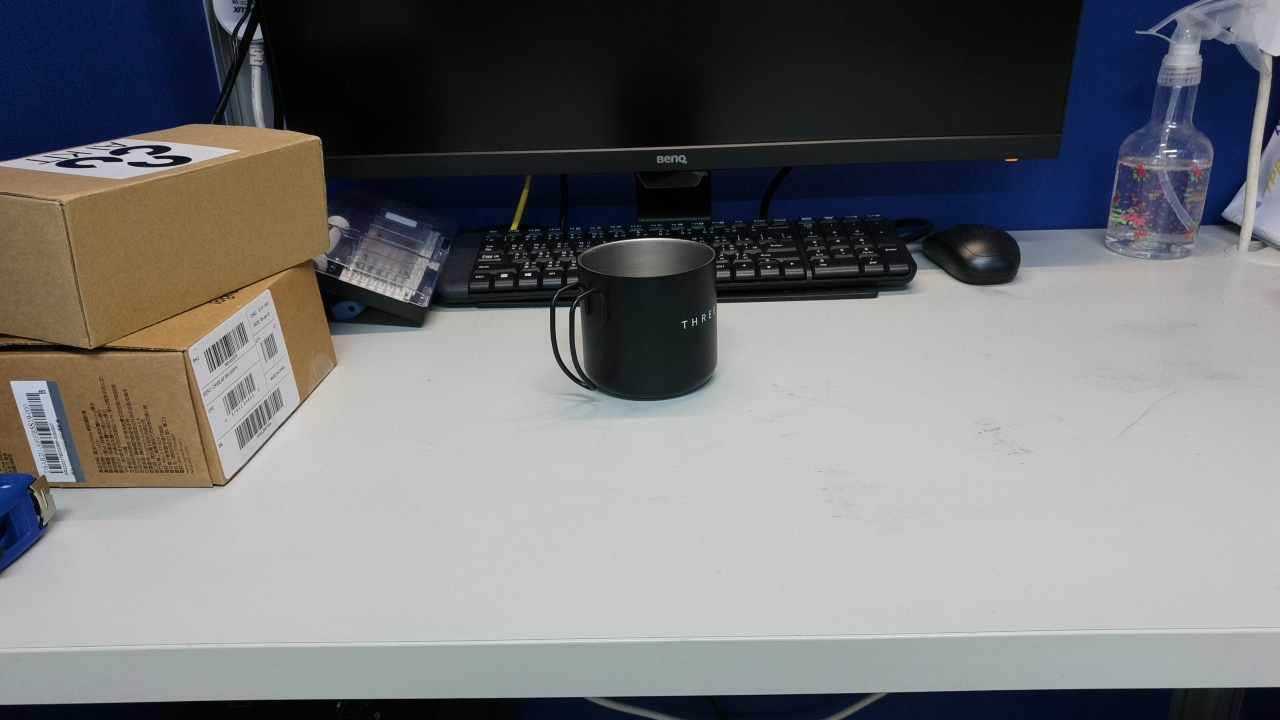circle: (560, 435, 705, 545)
